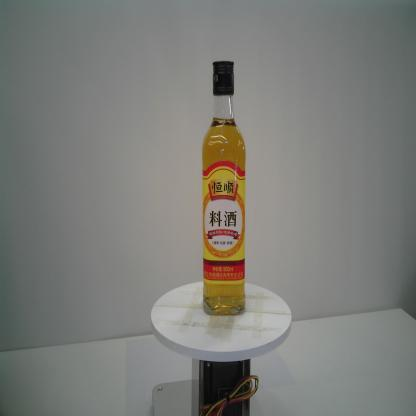Seasoner: (198, 55, 247, 319)
